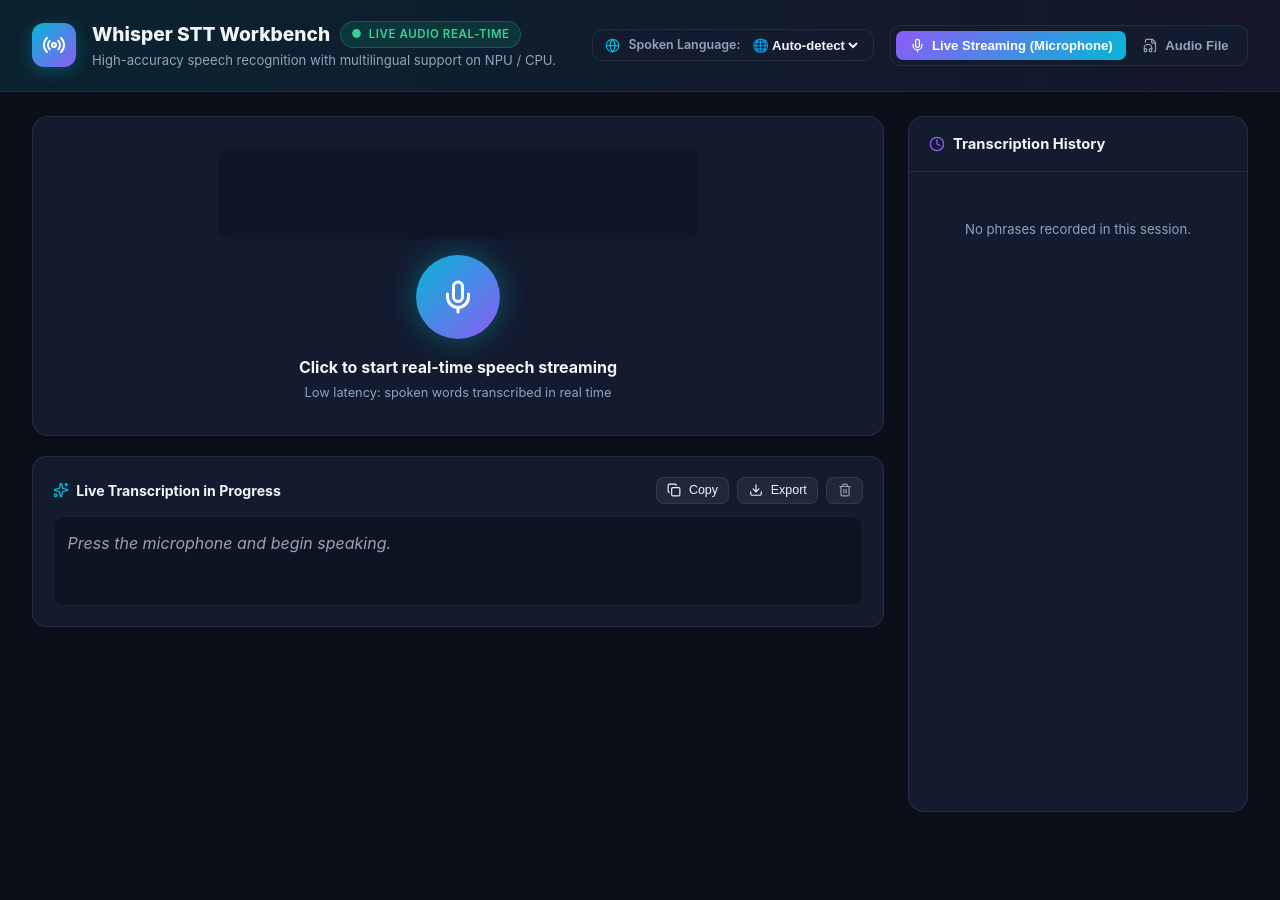
Scenario: AudioPlayground › switches to File Audio mode and displays drag-and-drop zone
This screenshot has width=1280, height=900.
Click the button "Audio File" at x=1186, y=46, box [1130, 31, 1242, 60]
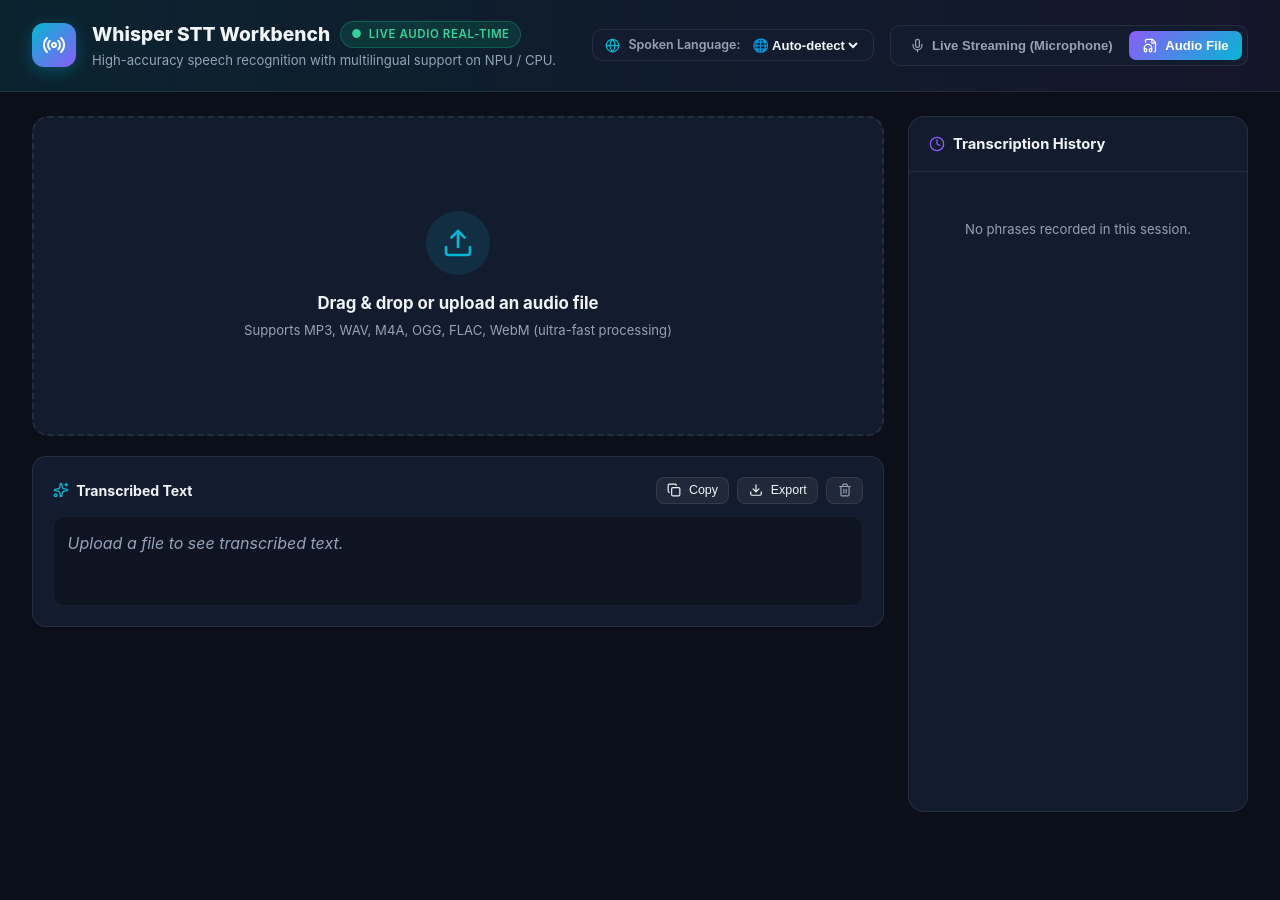
expect the text "Drag & drop or upload an audio file" is shown: met, box [317, 291, 599, 316]
